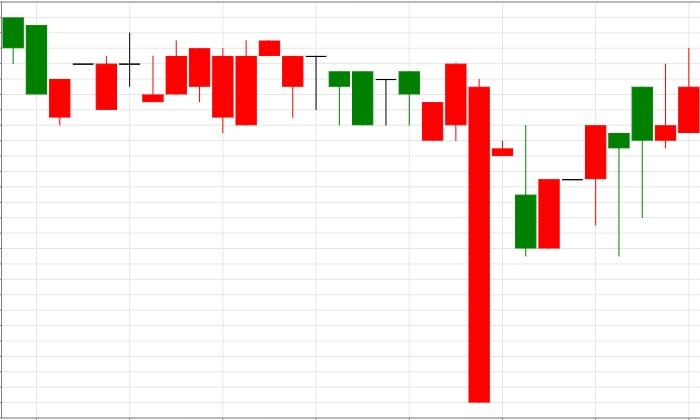hanging_man_fall: (514, 124, 631, 256)
